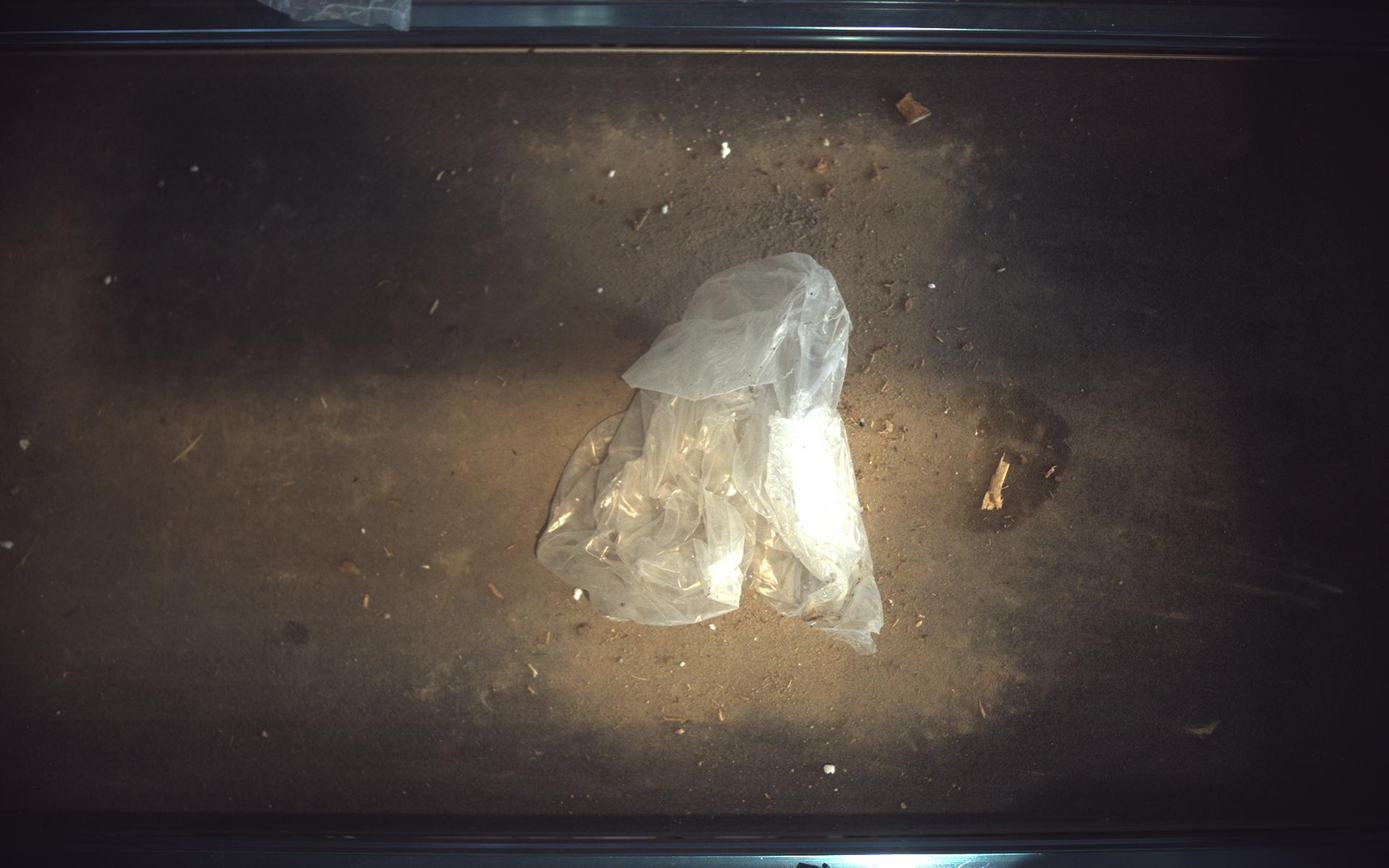general_w: (538, 252, 885, 655)
